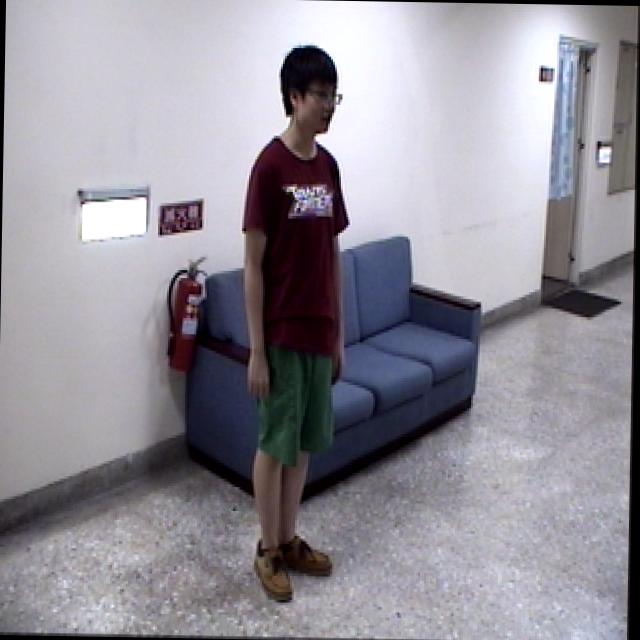stand: (228, 35, 371, 612)
